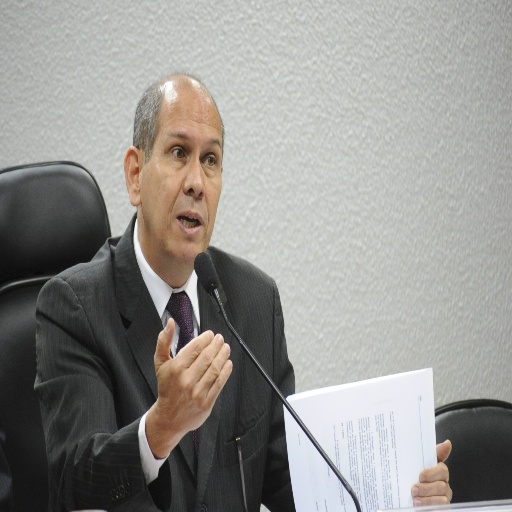hand: (139, 316, 231, 447), (409, 438, 453, 508)
